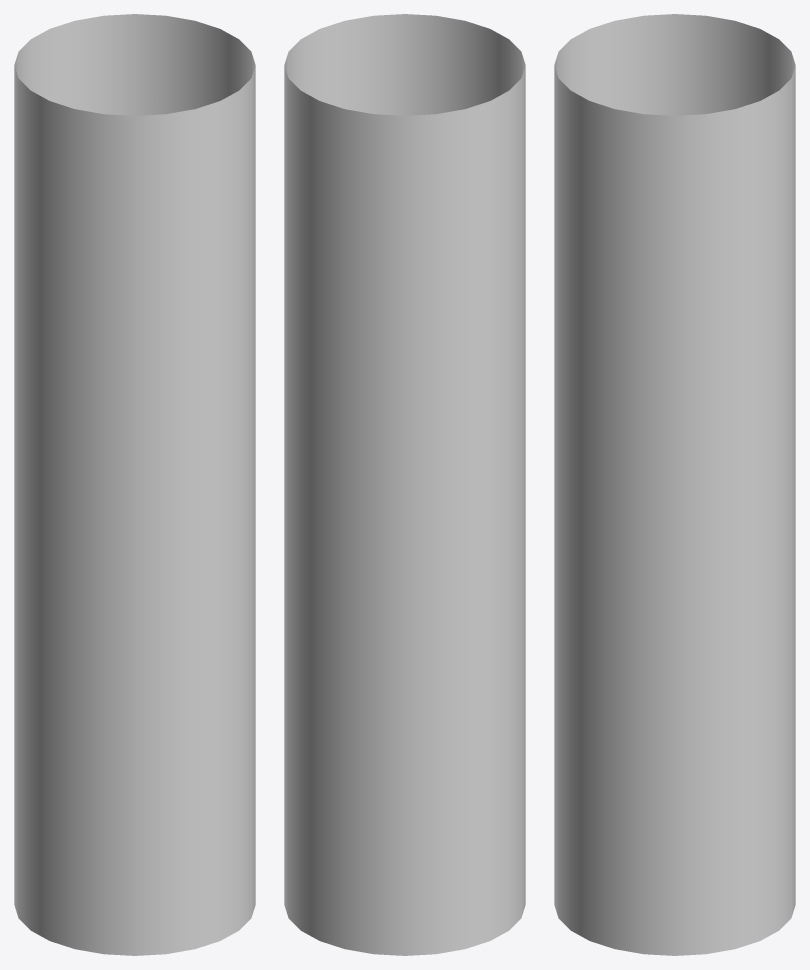
File: ray_vfx1.fbx
3 renders of one model, left to right at view 1: azimuth 30°, elevation 25°; view 2: azimuth 150°, elevation 25°; view 3: azimuth 270°, elevation 25°, orthographic.
Visible parts, largest first — view 1: ray_vfx1; view 2: ray_vfx1; view 3: ray_vfx1.
Part boxes in pixels (x1,y1,x2,y2): ray_vfx1: (14, 14, 255, 955); ray_vfx1: (284, 14, 525, 955); ray_vfx1: (554, 14, 795, 955).
Bounding box in the file's own units: 1.28 × 1.28 × 4.92.
